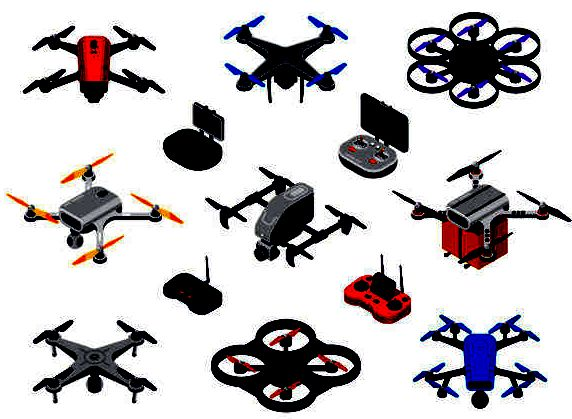Drone: (9, 152, 183, 270), (394, 148, 572, 255), (204, 166, 368, 271), (404, 9, 542, 112), (205, 320, 360, 410), (414, 309, 550, 406), (218, 11, 347, 108), (23, 21, 167, 102), (29, 318, 156, 405)
